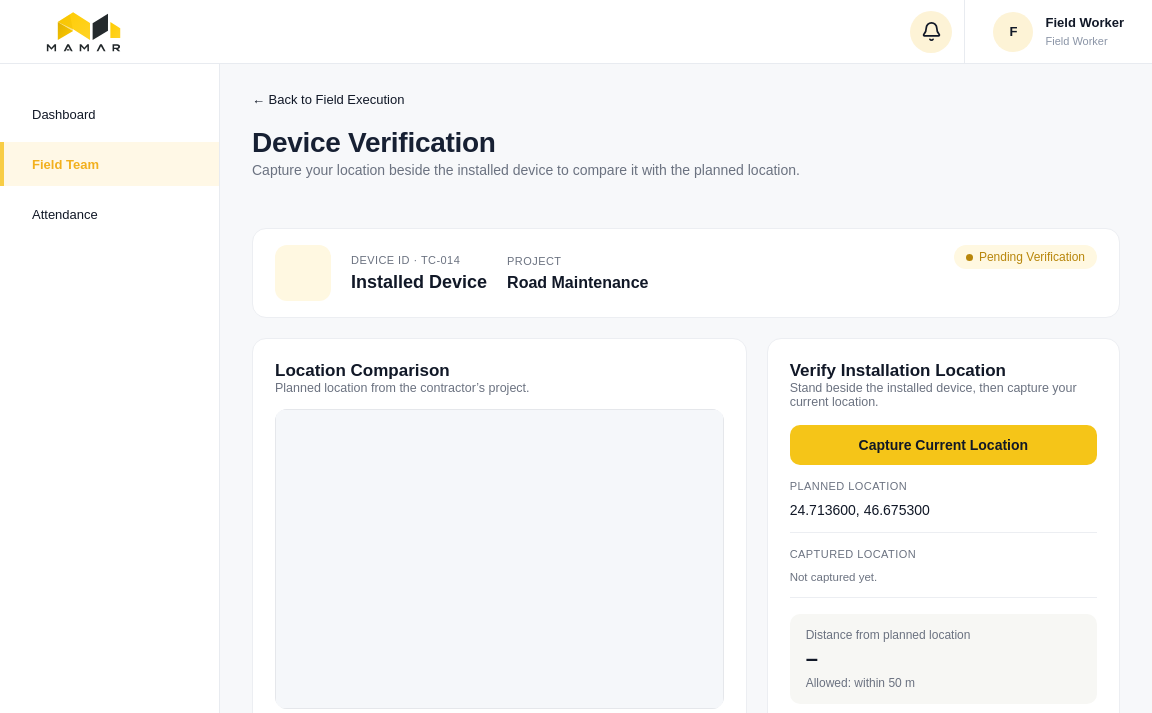
it: Field Worker DeviceVerification › captures the location and enables saving within range
Click the button "Capture Current Location".
click(943, 445)  # box [790,425,1097,465]
(page scrolled)
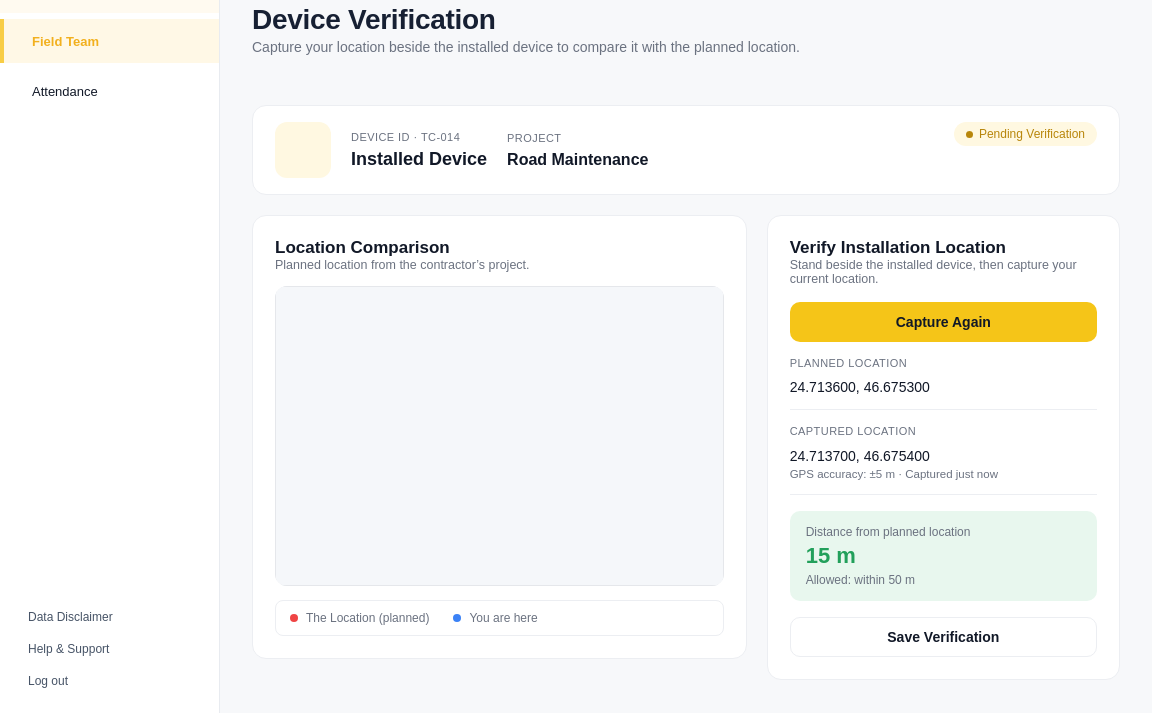
Result: the text "24.713700, 46.675400" is shown at [790,448,930,464]
Result: the text "15 m" is shown at [806,543,856,568]
Result: the button "Save Verification" is enabled at [790,617,1097,657]
